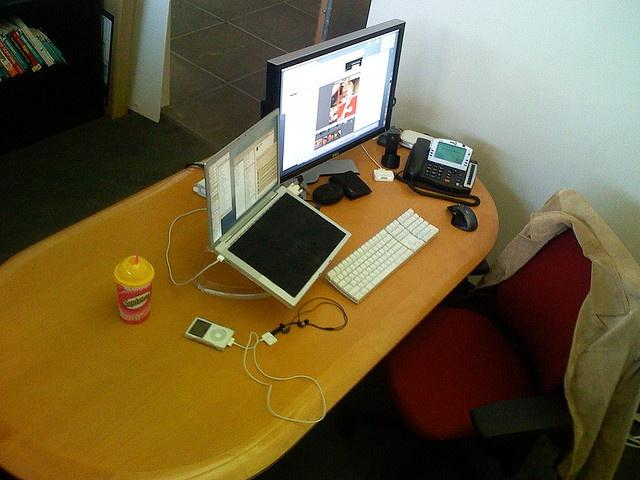AIO PC-Monitor-TV: (258, 17, 405, 189)
Kursi: (382, 187, 637, 444)
